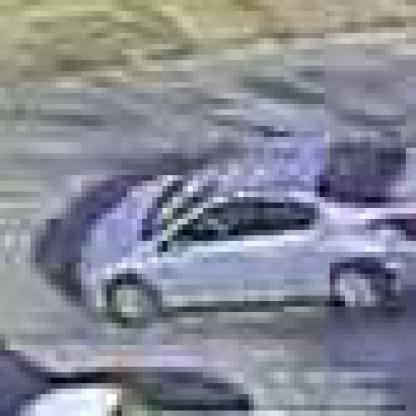car: (82, 144, 412, 330)
